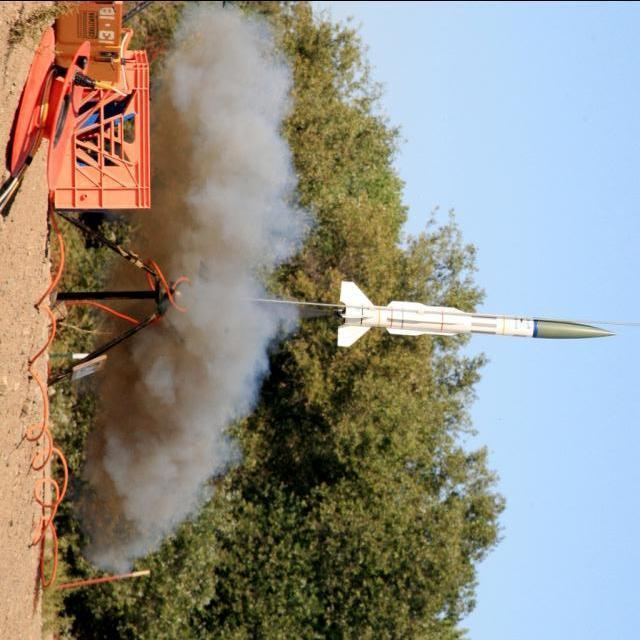missile: (332, 274, 634, 362)
